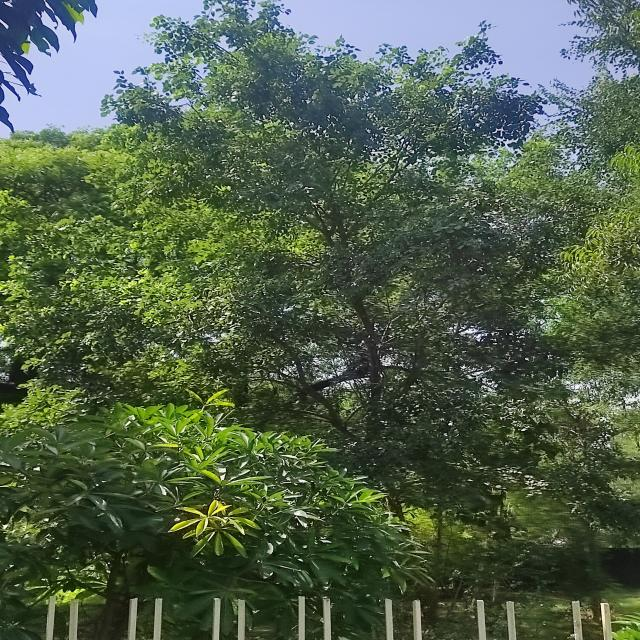Devakanchan tree: (227, 1, 594, 450), (4, 132, 247, 357)
Mango Tree: (1, 397, 370, 607)
Neem Tree: (559, 148, 640, 400)
